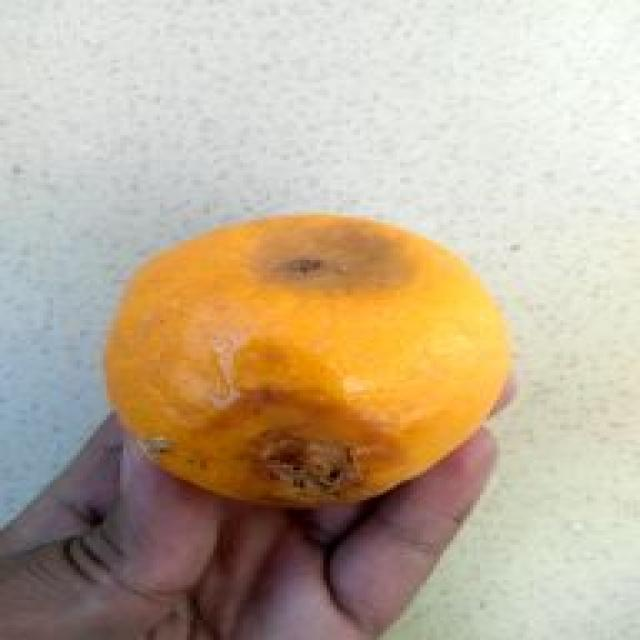Bad_Orange: (107, 218, 512, 506)
